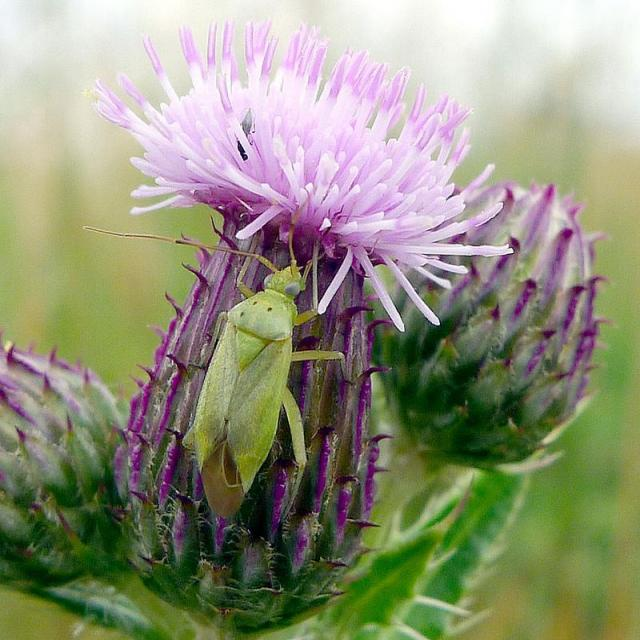Miridae-Adult-: (71, 210, 351, 529)
